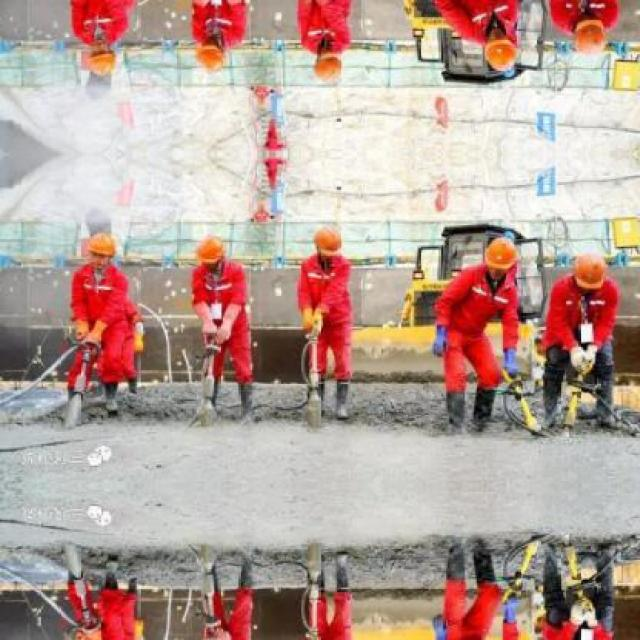Reflective-Jacket: (428, 265, 526, 364), (63, 264, 146, 373), (184, 260, 258, 360), (542, 276, 626, 361), (289, 251, 363, 347)
Safety-Helmet: (563, 245, 615, 292), (476, 233, 526, 274), (76, 225, 126, 265), (189, 230, 231, 270), (308, 221, 349, 259)
